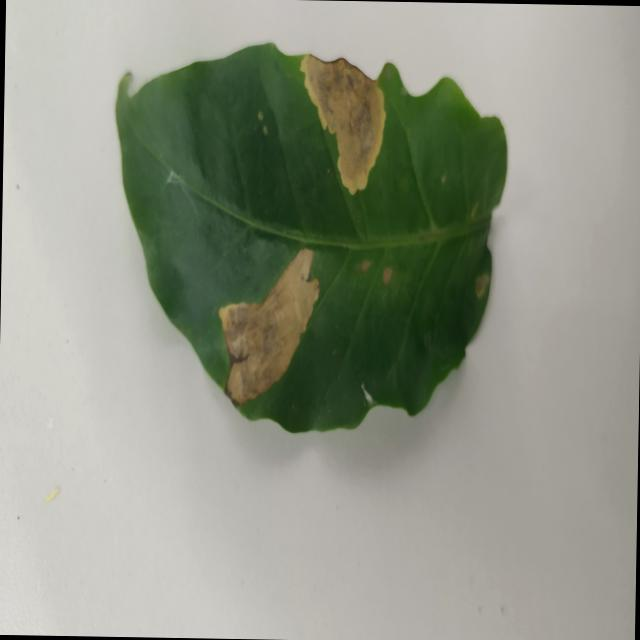KaratDaunKopi: (218, 249, 318, 403), (300, 55, 385, 194), (474, 272, 489, 298), (355, 259, 371, 273), (382, 266, 392, 285)
